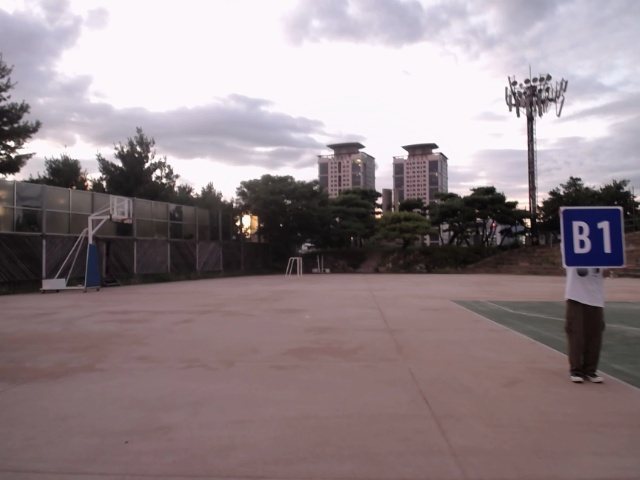delivery_b1: (561, 207, 625, 268)
